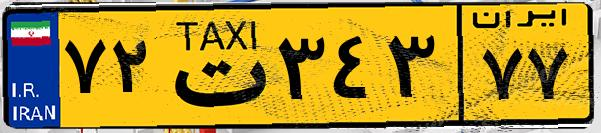2: (110, 28, 158, 98)
3: (270, 28, 330, 110), (385, 28, 445, 110)
4: (330, 28, 385, 110)
7: (57, 26, 110, 100), (475, 38, 525, 113), (525, 38, 570, 115)
ت: (158, 12, 270, 120)
